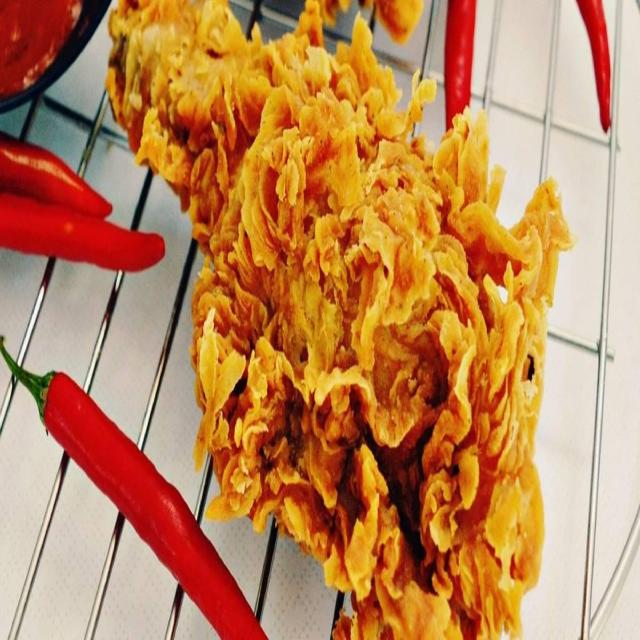Frango: (109, 0, 549, 640)
